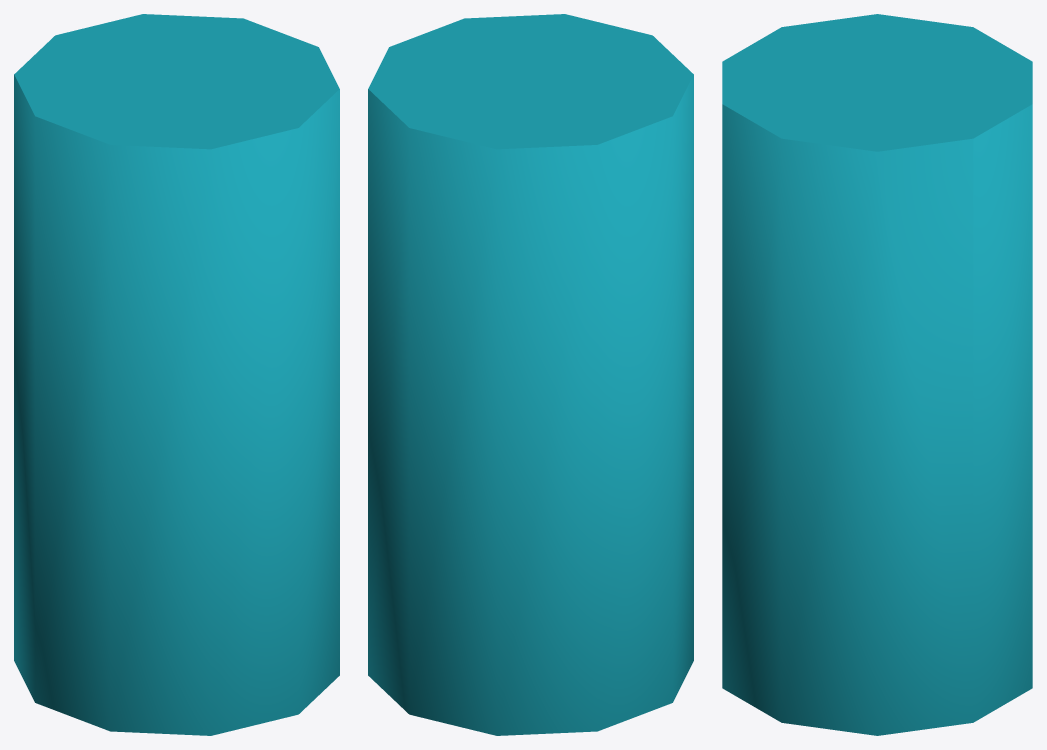
Rendered from Blocker_A.fbx.
3 views of the same model, side by side, from view 1: azimuth 30°, elevation 25°; view 2: azimuth 150°, elevation 25°; view 3: azimuth 270°, elevation 25° (orthographic).
Parts seen in each view (by area): view 1: Blocker_A; view 2: Blocker_A; view 3: Blocker_A.
Boxes of the visible parts, box(x1,y1,x2,y2) form: Blocker_A: box(14, 14, 339, 735); Blocker_A: box(368, 14, 693, 735); Blocker_A: box(722, 14, 1032, 735).
Size of the model in its own units: 1.51 by 2.99 by 1.44.
